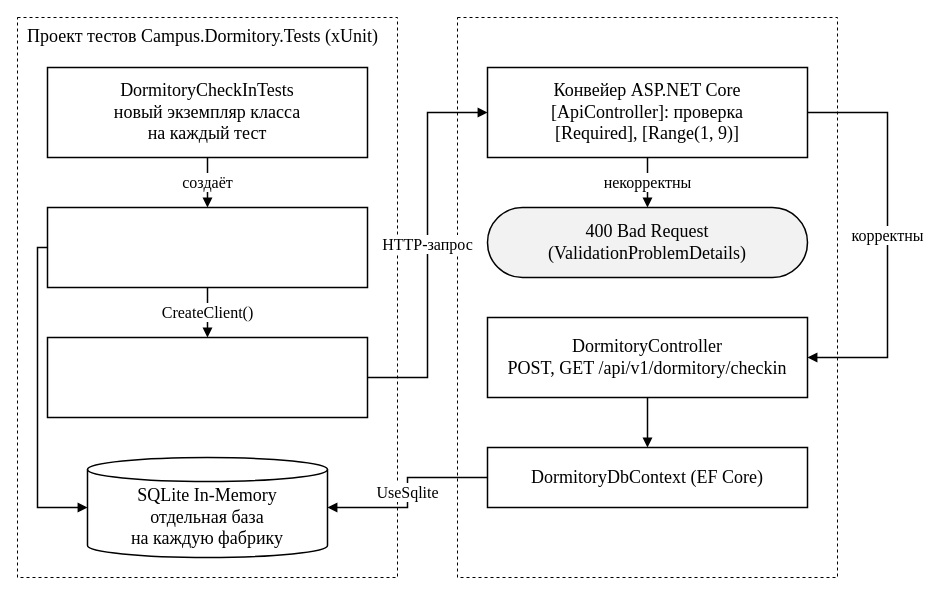
This 941x595 diagram has some shape labels left out. Here are the shapes that lost their labels. From the top down, the box of each, then its label:
(46, 206, 368, 288): CustomWebApplicationFactory WebApplicationFactory<Program>
(456, 16, 838, 578): Тестируемый модуль Campus.Dormitory.Api
(46, 336, 368, 418): HttpClient → TestServer (API в памяти, без сети)
